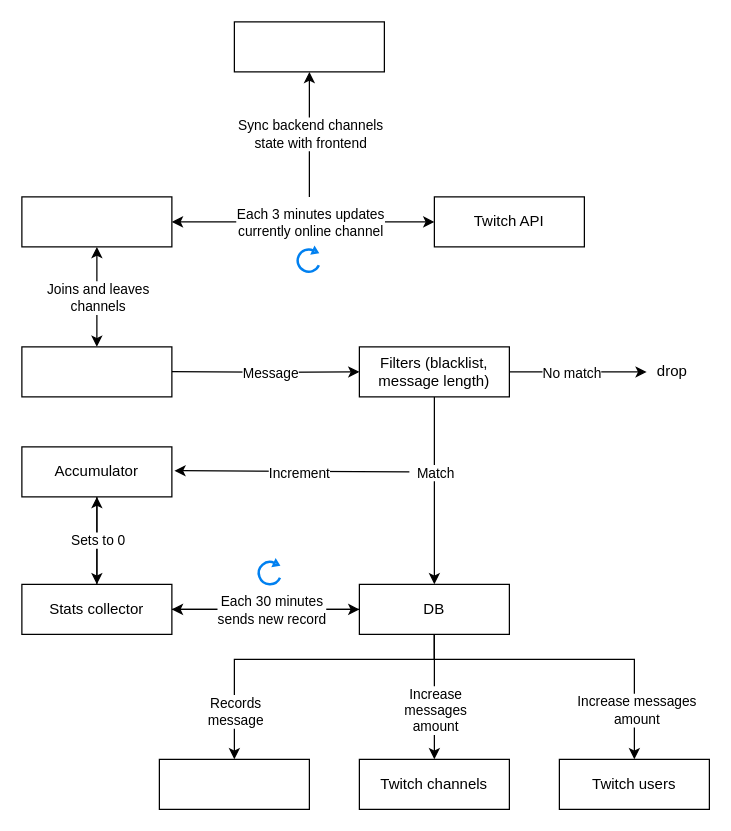
Image size: 731x831. Some labels were removed from this diagram. The centre of each missing label's shape, as x and y in pixels:
"Channels" belongs at [96,221].
"Firestore DB" belongs at [308,46].
"Messages" belongs at [233,783].
"Twitch IRC" belongs at [96,371].
